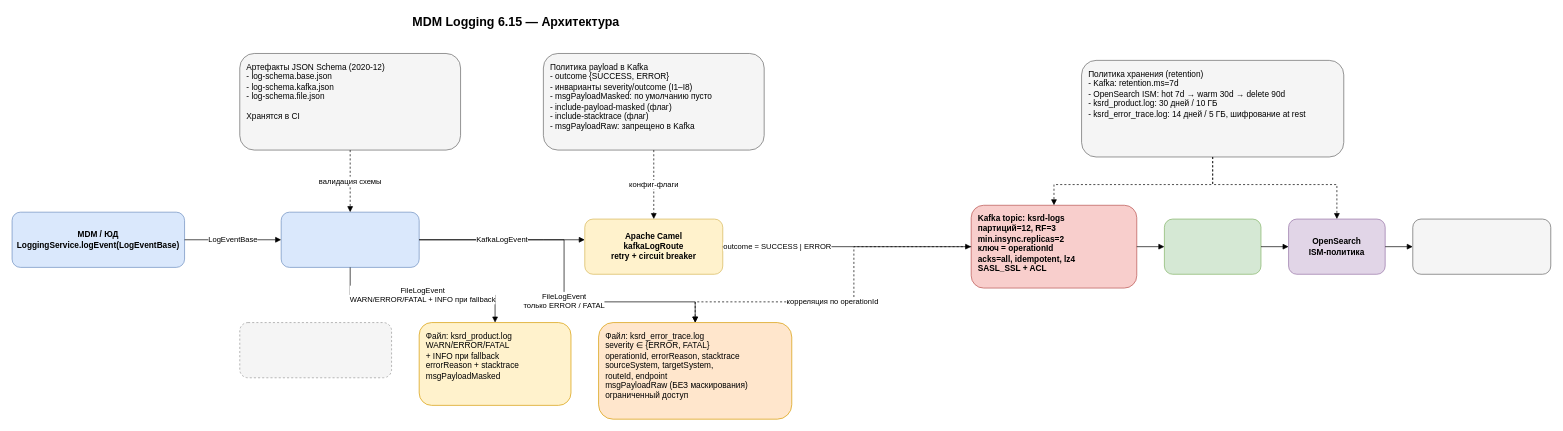
Image size: 1563x431. Some labels were removed from this diagram. Here are the shapes that lost their labels. From the top down, the box of each, then its label:
(280, 211, 419, 267): Маппер LogEventBase → KafkaLogEvent / FileLogEvent
(1164, 218, 1261, 274): Logstash ingest pipeline
(1412, 218, 1551, 274): Kibana / OpenSearch Dashboards
(239, 322, 392, 378): Системный аудит Universe вне scope, не модифицируется
